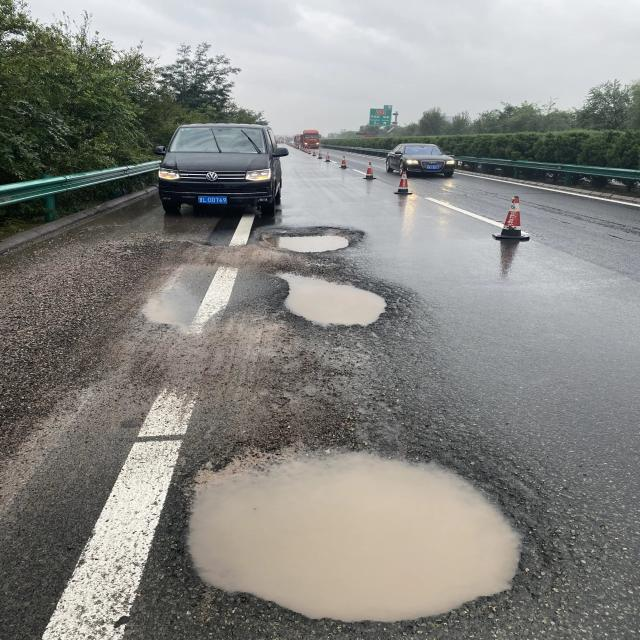Pothole: (187, 445, 522, 630), (258, 266, 404, 334), (248, 226, 356, 253)
